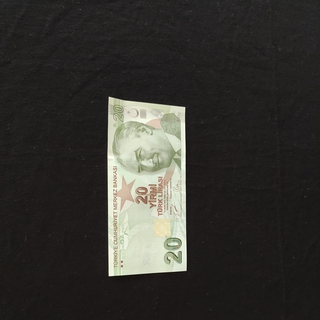20TLFront: (105, 96, 187, 276)
